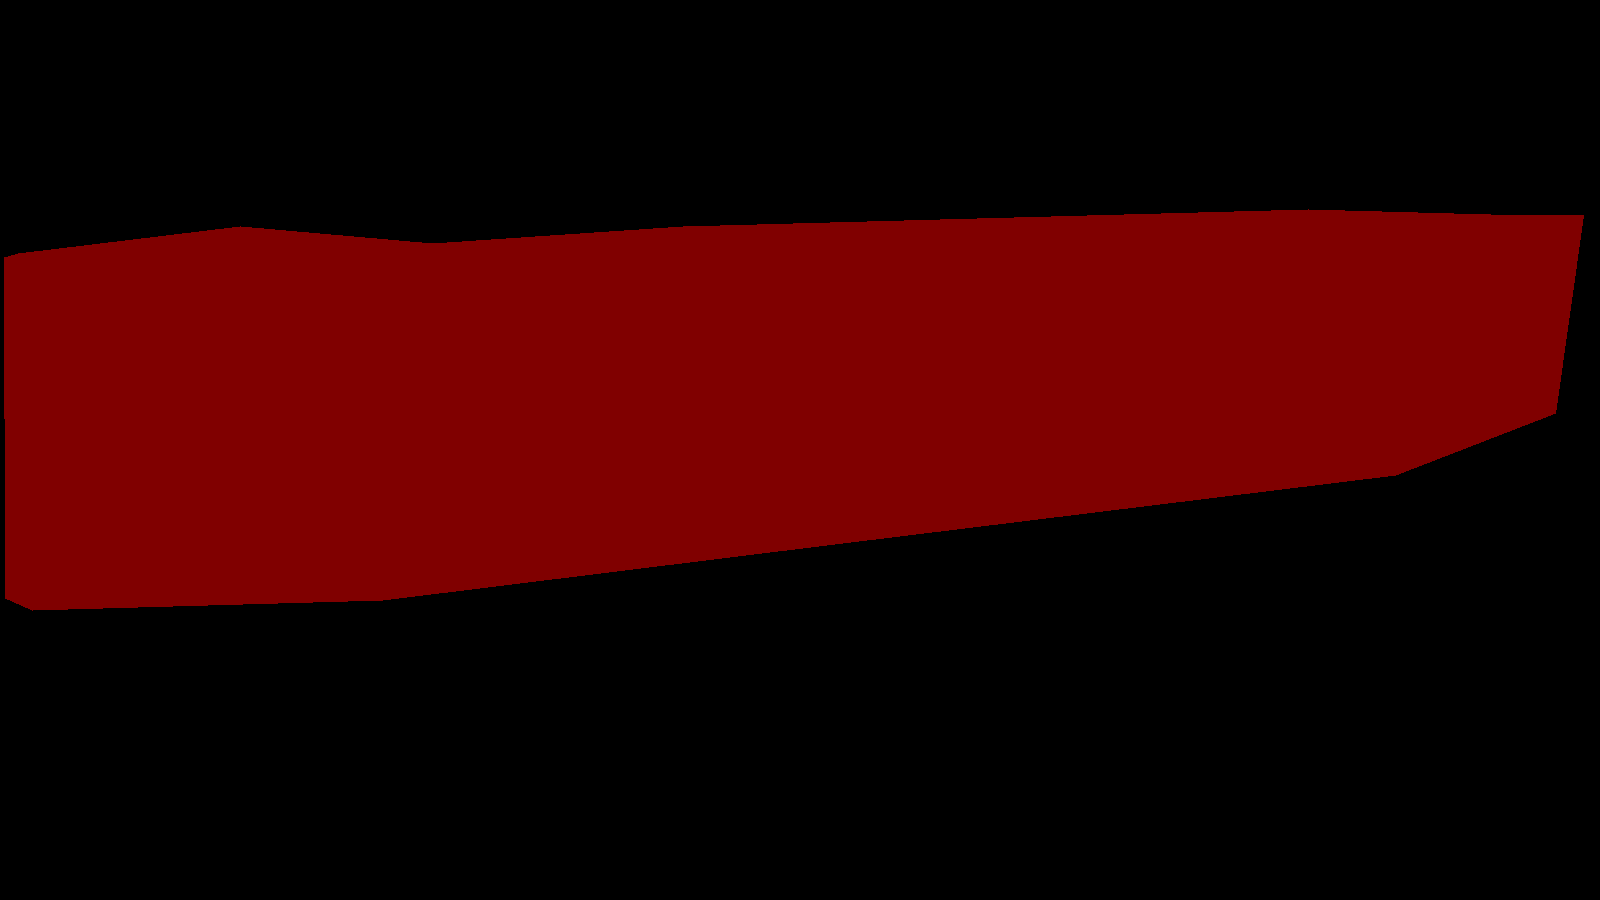fire: (4, 209, 1584, 610)
